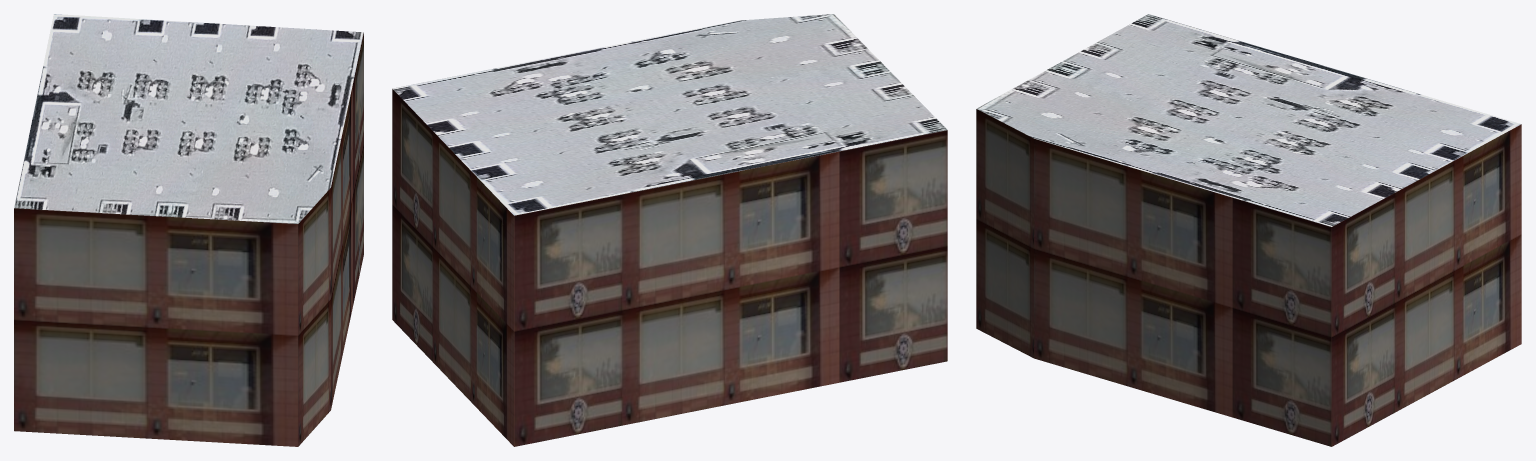
File: ResTex__1363.fbx
The picture shows the model from 3 angles, left to right: view 1: azimuth 30°, elevation 25°; view 2: azimuth 150°, elevation 25°; view 3: azimuth 270°, elevation 25°; orthographic projection. The views are drawn at different scales.
Parts seen in each view (by area): view 1: CityEngineMaterial_13_m, CityEngineMaterial_4_m; view 2: CityEngineMaterial_13_m, CityEngineMaterial_4_m; view 3: CityEngineMaterial_13_m, CityEngineMaterial_4_m.
Boxes of the visible parts, left/top/right/bottom form: CityEngineMaterial_13_m: left=14, top=33, right=363, bottom=446; CityEngineMaterial_4_m: left=14, top=14, right=363, bottom=223; CityEngineMaterial_13_m: left=392, top=89, right=947, bottom=446; CityEngineMaterial_4_m: left=392, top=14, right=947, bottom=215; CityEngineMaterial_13_m: left=976, top=109, right=1521, bottom=446; CityEngineMaterial_4_m: left=976, top=14, right=1521, bottom=226.
Bounding box in the file's own units: 12.47 × 6 × 13.48.
2 materials, 2 textured.
